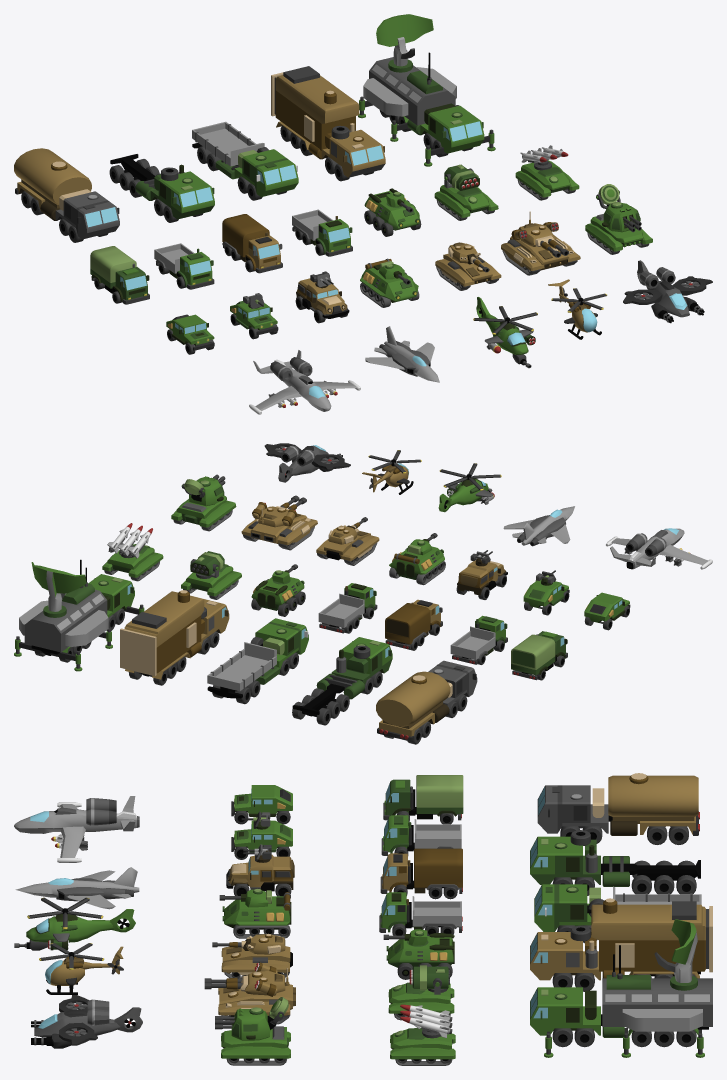
File: Lowpoly Military Armored Army Vehicles Strategy Assets Pack.fbx
The picture shows the model from 3 angles, top to bottom: view 1: azimuth 30°, elevation 25°; view 2: azimuth 150°, elevation 25°; view 3: azimuth 270°, elevation 25°; orthographic projection. The views are drawn at different scales.
Parts seen in each view (by area): view 1: Cube.521, Cube.530, Cylinder.573, Cube.505, Cube.493, Cube.523, Cube.499, Cube.515, Plane.083, Cube.513, Cube.476, Cube.458 (+22 smaller); view 2: Cube.521, Cube.530, Cylinder.573, Cube.513, Cube.476, Cube.458, Plane.083, Cube.499, Cube.505, Cube.493, Cube.413, Cube.485 (+25 smaller); view 3: Cube.521, Cube.530, Cylinder.573, Cube.493, Cube.523, Cube.499, Cube.515, Cube.505, Cube.476, Plane.076, Cube.458, Cube.413 (+43 smaller).
Boxes of the visible parts, box(x1,y1,x2,y2) form: Cube.521: box(271, 66, 359, 150); Cube.530: box(363, 57, 456, 125); Cylinder.573: box(14, 148, 91, 208); Cube.505: box(234, 149, 298, 197); Cube.493: box(55, 191, 119, 239); Cube.523: box(420, 105, 484, 153); Cube.499: box(150, 171, 214, 219); Cube.515: box(321, 129, 385, 177); Plane.083: box(376, 14, 433, 66); Cube.513: box(192, 121, 264, 166); Cube.476: box(222, 214, 269, 257); Cube.458: box(90, 246, 136, 288); Cube.521: box(120, 591, 204, 676); Cube.530: box(19, 583, 108, 652); Cylinder.573: box(376, 671, 450, 728); Cube.513: box(207, 642, 276, 691); Cube.476: box(385, 603, 430, 644); Cube.458: box(511, 634, 555, 675); Plane.083: box(31, 562, 86, 611); Cube.499: box(331, 637, 392, 685); Cube.505: box(255, 618, 308, 669); Cube.493: box(428, 660, 477, 708); Cube.413: box(457, 560, 505, 595); Cube.485: box(318, 593, 364, 627); Cube.521: box(591, 901, 712, 972); Cube.530: box(602, 975, 712, 1031); Cylinder.573: box(608, 775, 698, 823); Cube.493: box(537, 785, 608, 833); Cube.523: box(530, 987, 600, 1035); Cube.499: box(530, 836, 600, 884); Cube.515: box(530, 932, 600, 980); Cube.505: box(534, 884, 591, 931); Cube.476: box(414, 848, 462, 887); Plane.076: box(14, 808, 139, 833); Cube.458: box(416, 775, 463, 813); Cube.413: box(228, 854, 294, 889).
Bounding box in the file's own units: 10686 × 2119 × 12097.
